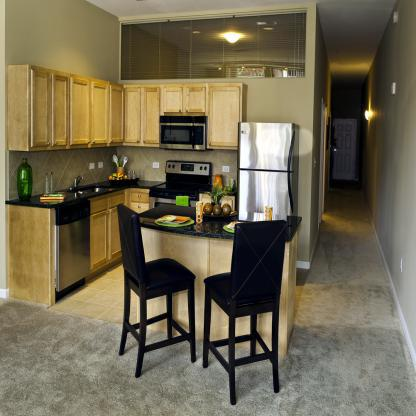door: (330, 119, 356, 180)
hinged: (354, 124, 356, 128), (354, 171, 356, 174), (355, 147, 356, 152)
